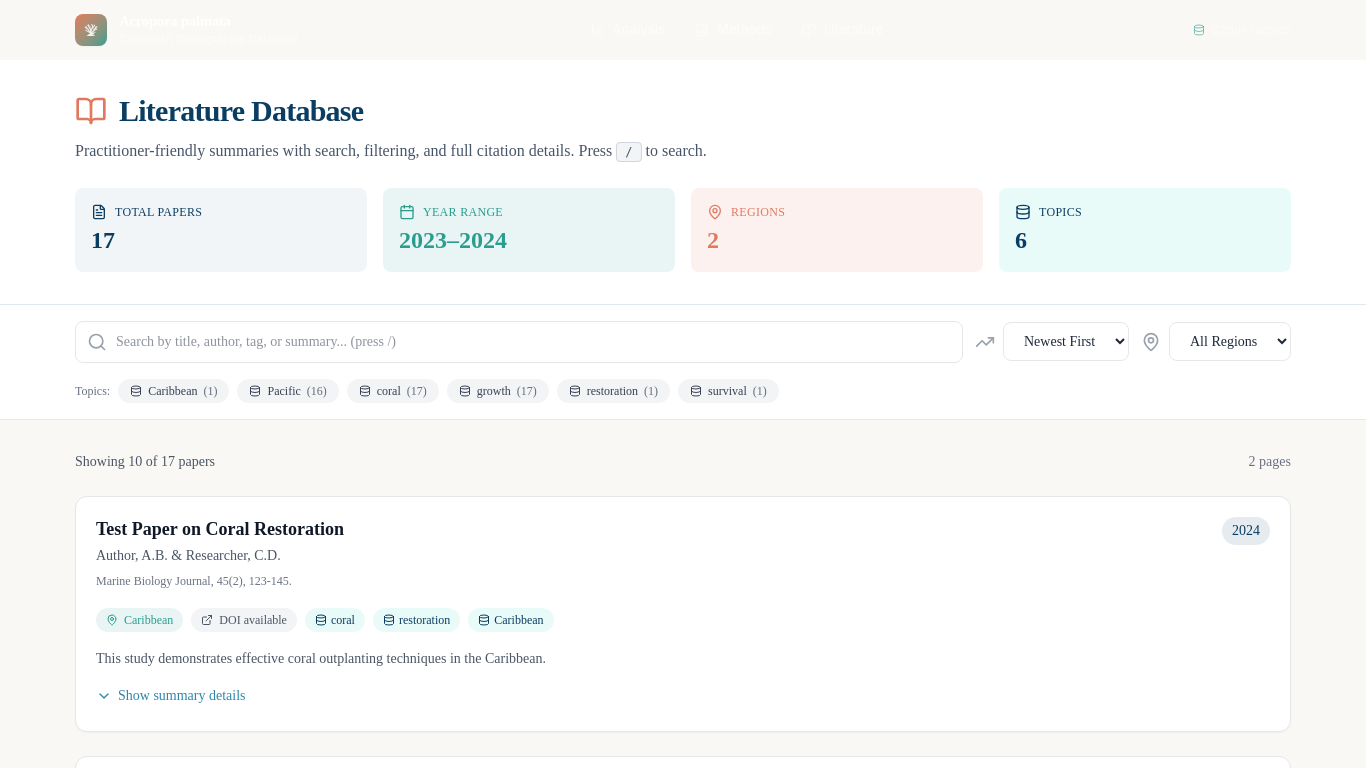
Test case: Literature Page Integration Tests › Search Functionality › should display loading indicator during search debounce
Expected: the heading "Test Paper on Coral Restoration" is shown, [96,518,344,538]
In the field named "Search publications": (519, 342) [75,320,963,362], type "test"
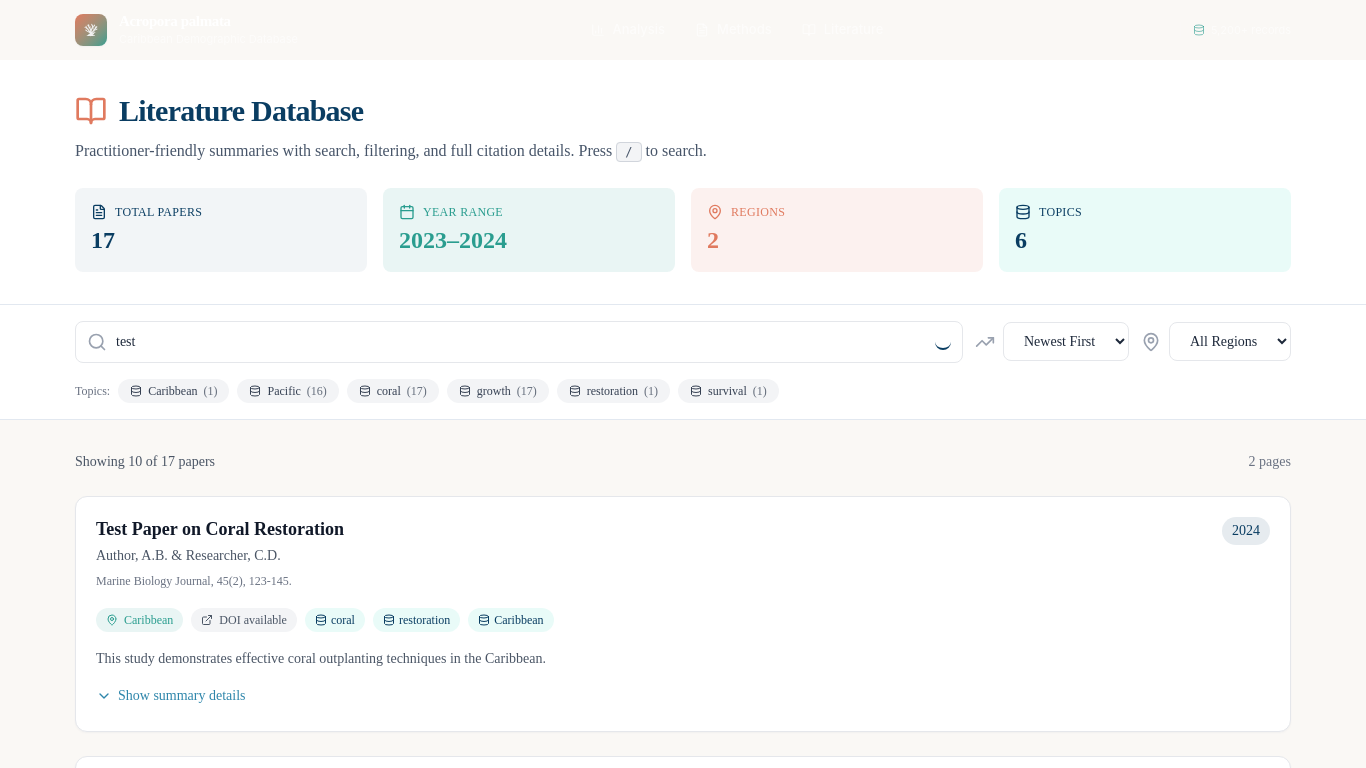
Now the element with class "animate-spin" is shown, box [935,334,951,350]
